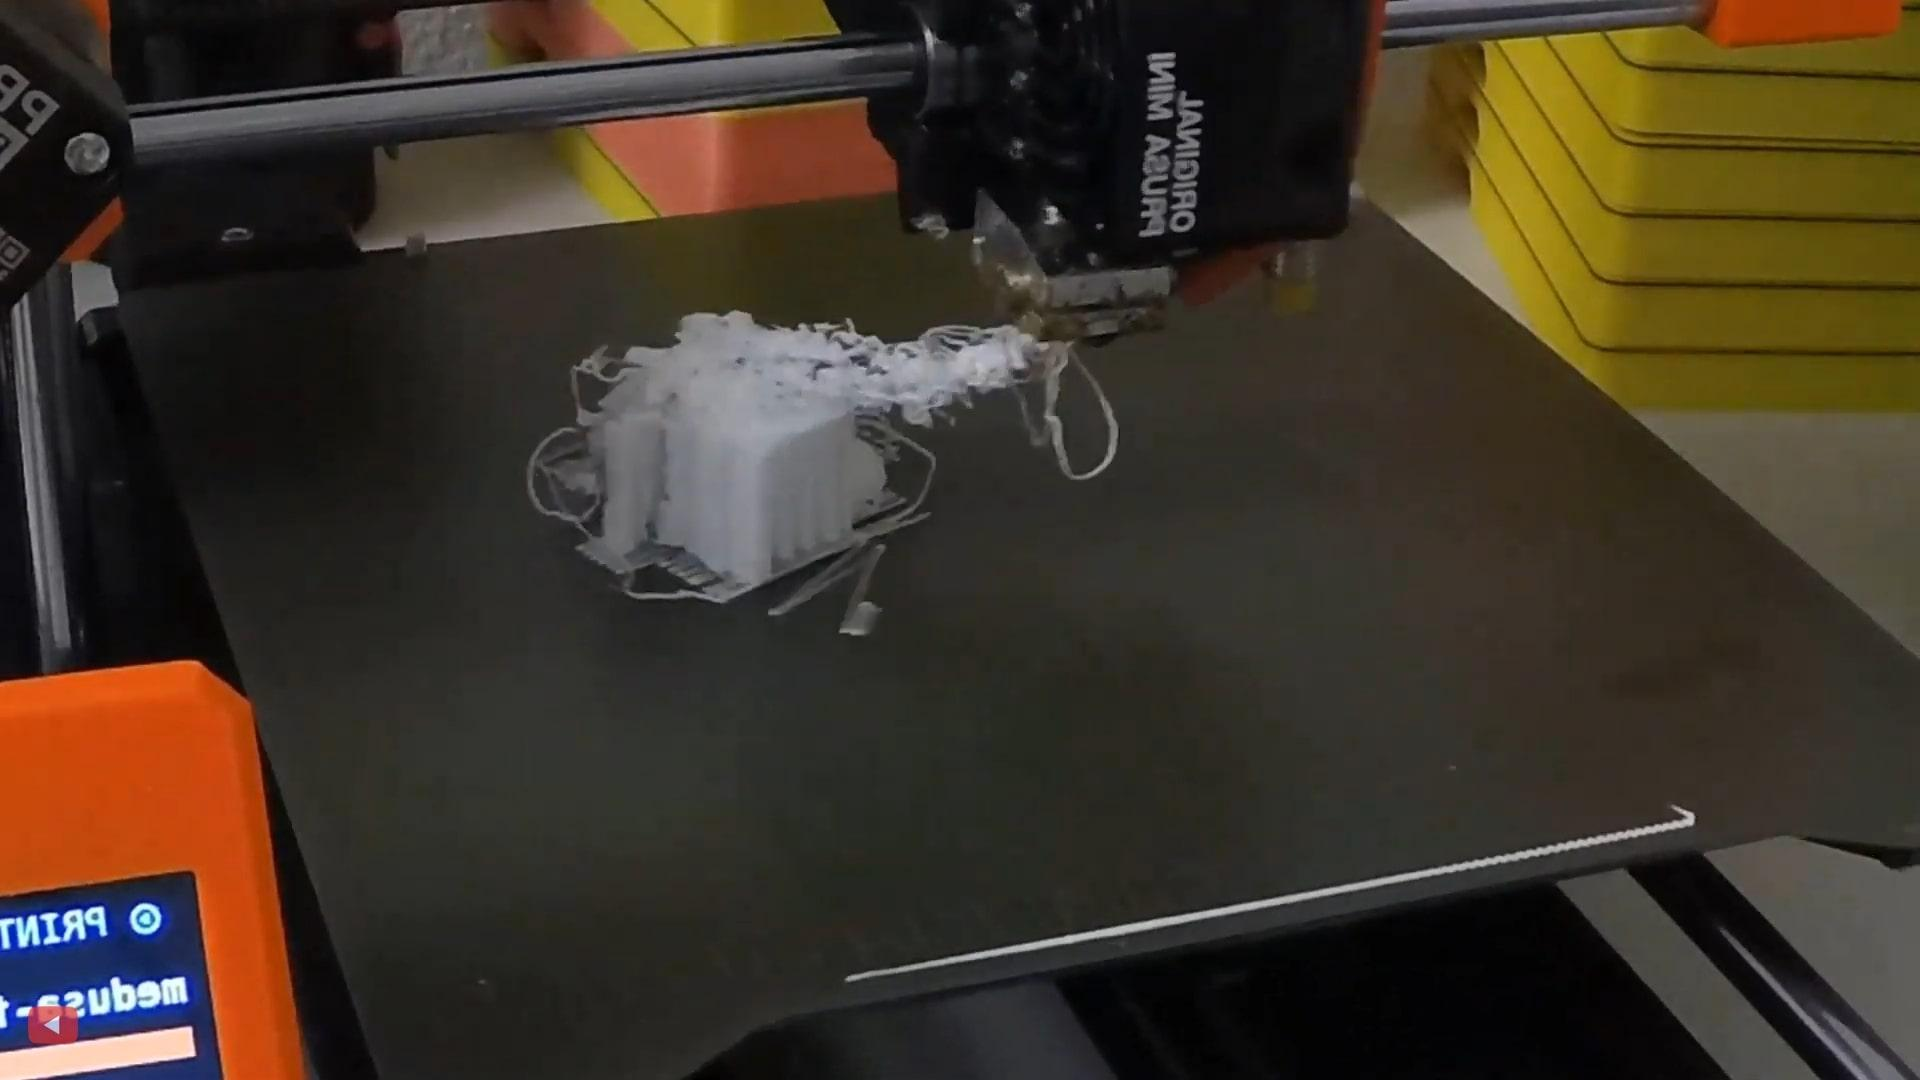Printing-Artifact: (761, 268, 1105, 447)
